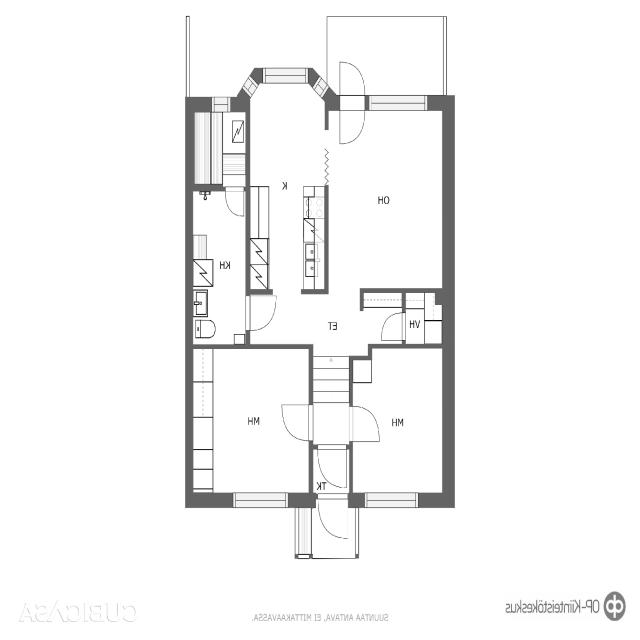door: (190, 346, 315, 499), (334, 58, 368, 147), (311, 441, 354, 492), (312, 492, 352, 544), (276, 398, 319, 446), (346, 400, 385, 450), (242, 290, 280, 334), (375, 308, 407, 346), (222, 184, 248, 221), (241, 69, 259, 98), (312, 72, 328, 99)
window: (358, 488, 426, 514), (228, 488, 293, 514), (366, 90, 435, 114), (261, 67, 309, 85), (310, 72, 328, 98), (242, 70, 259, 96), (210, 93, 233, 109)
zone: (324, 104, 446, 290), (188, 345, 316, 499), (248, 79, 326, 293), (349, 345, 446, 499), (192, 188, 248, 350), (193, 102, 246, 191), (403, 290, 443, 345)
